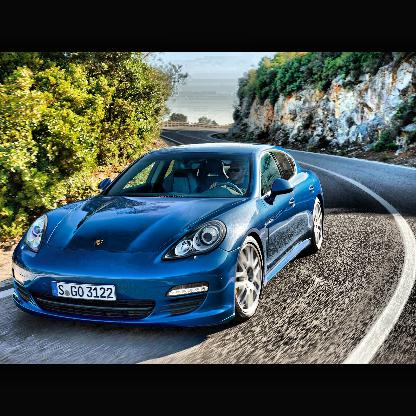Porsche Panamera Sedan 2012: (14, 137, 329, 333)
